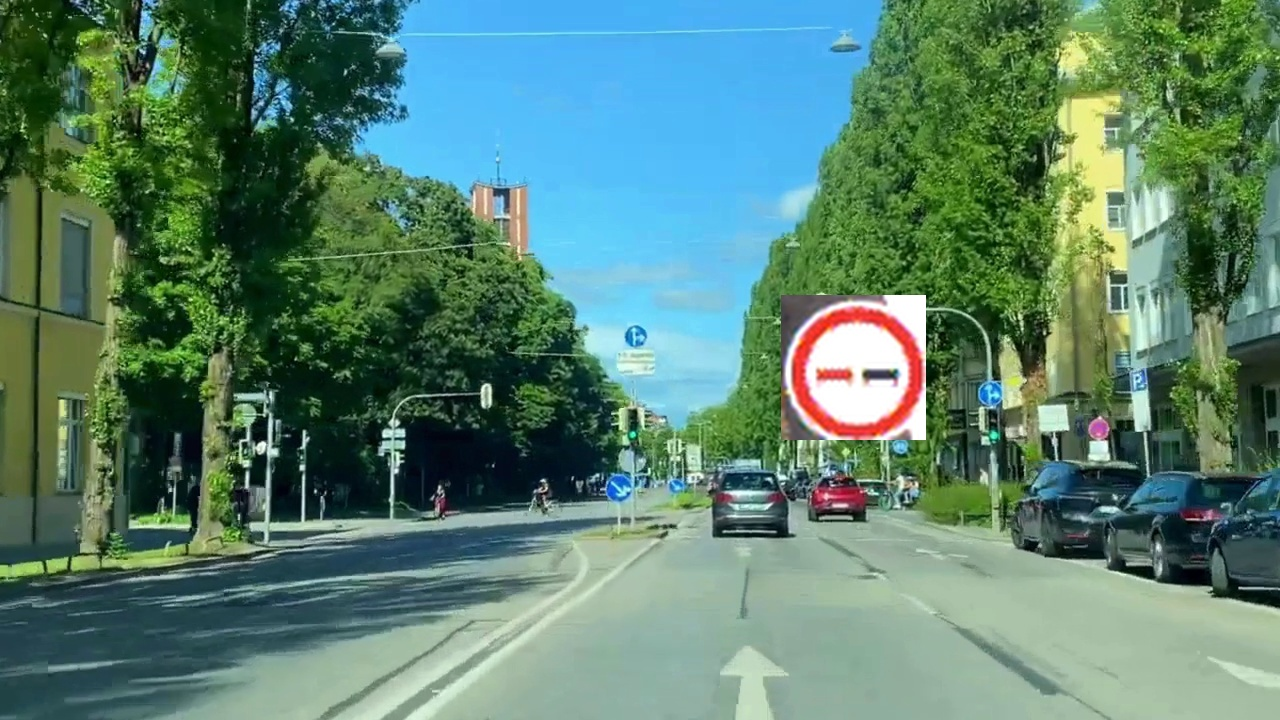No passing: (781, 295, 926, 440)
